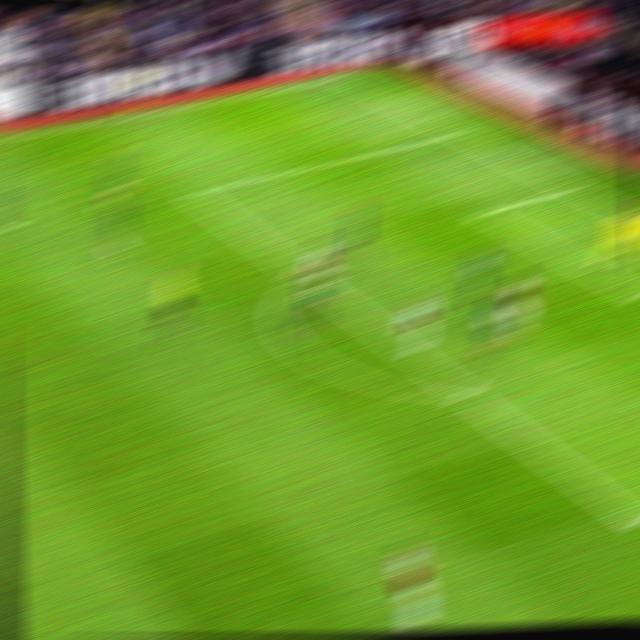bigarea_top_inner: (179, 181, 211, 203)
bigarea_top_outter: (448, 125, 474, 139)
bottom_arc_area_intersection: (448, 382, 479, 405)
corner: (329, 72, 357, 82)
smallarea_top_inner: (470, 204, 499, 220)
smallarea_top_outter: (562, 181, 592, 197)
top_arc_area_intersection: (284, 261, 313, 280)
